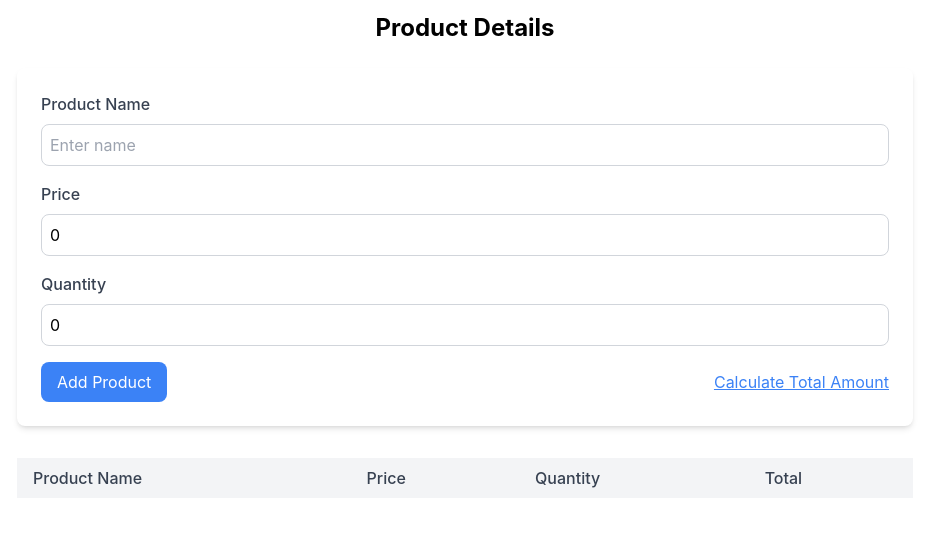
Products Component › calculates and displays total amount when hyperlink is clicked
Replace the text in the 1st number field with placeholder "Enter price" with "1000" at {"x": 465, "y": 235}, box [41,214,889,256]
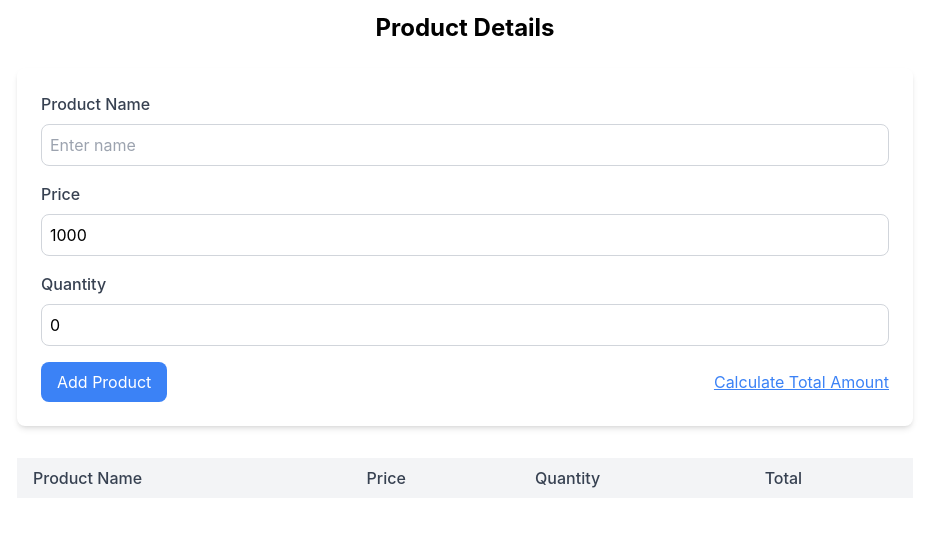
Replace the text in the 2nd number field with placeholder "Enter quantity" with "2" at {"x": 465, "y": 325}, box [41,304,889,346]
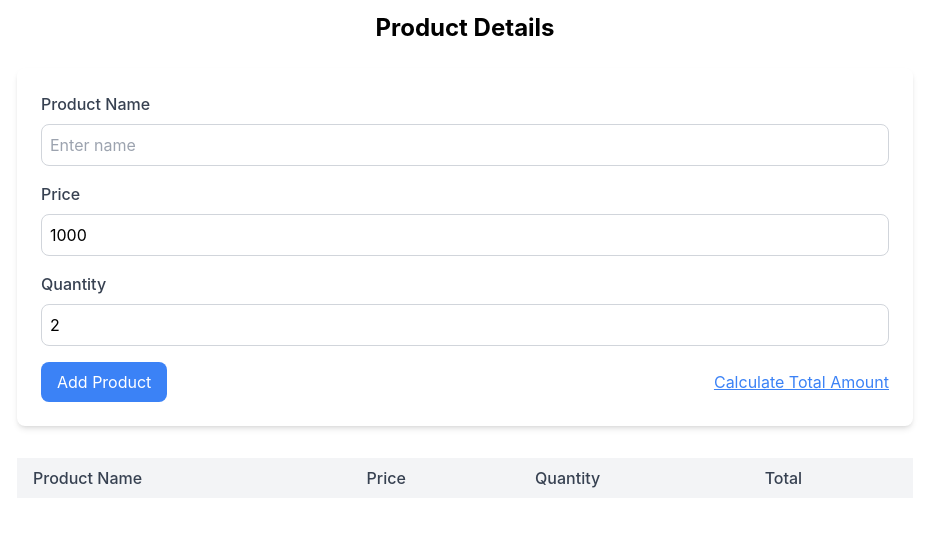
Click the link "Calculate Total Amount" at {"x": 801, "y": 382}, box [714,370,889,394]
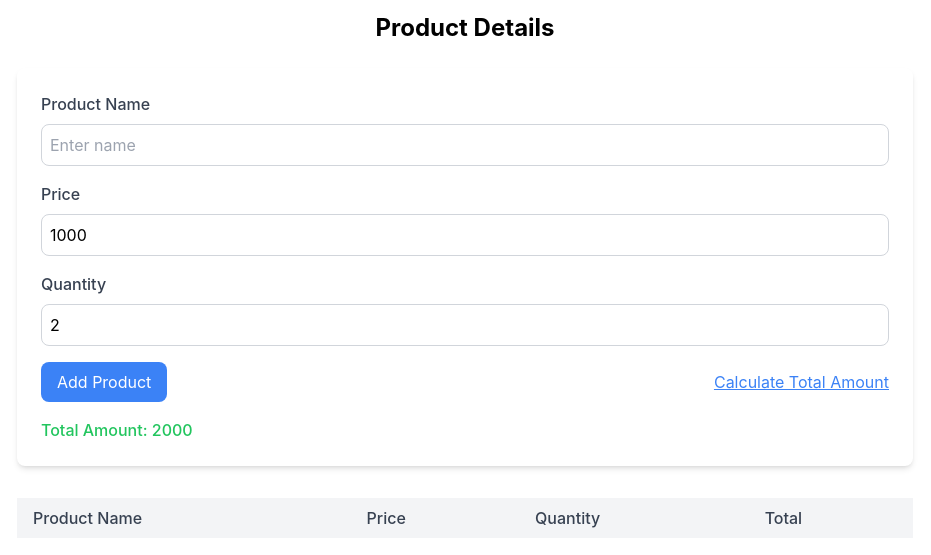
Result: the text "Total Amount: 2000" is shown at [41,420,193,440]
